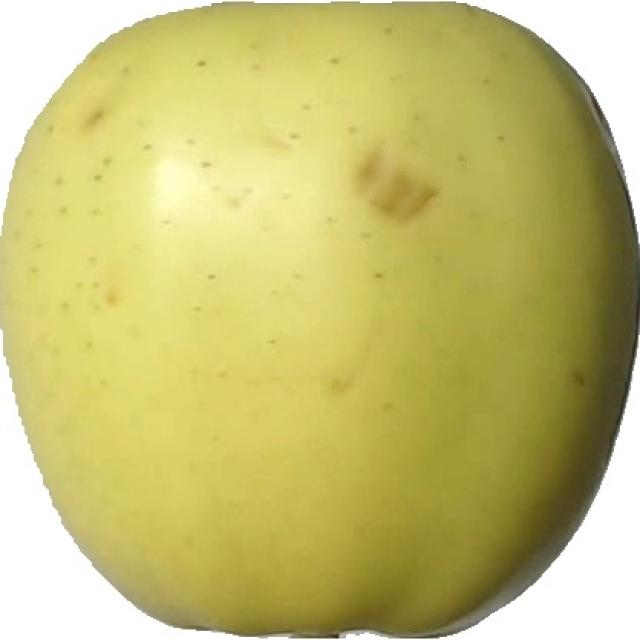Golden Elma: (6, 4, 638, 640)
